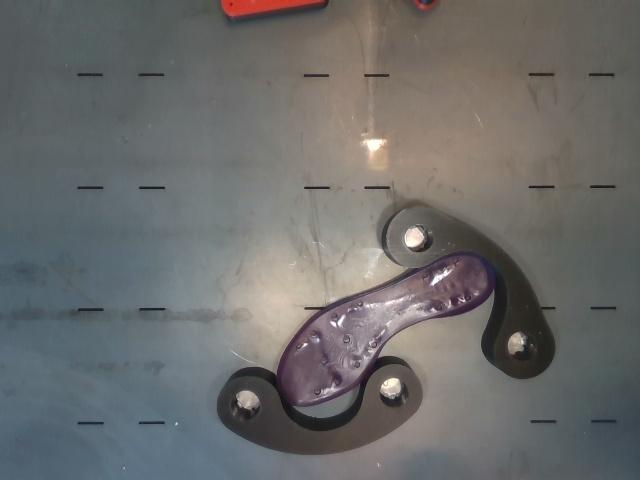shoes: (277, 252, 494, 406)
